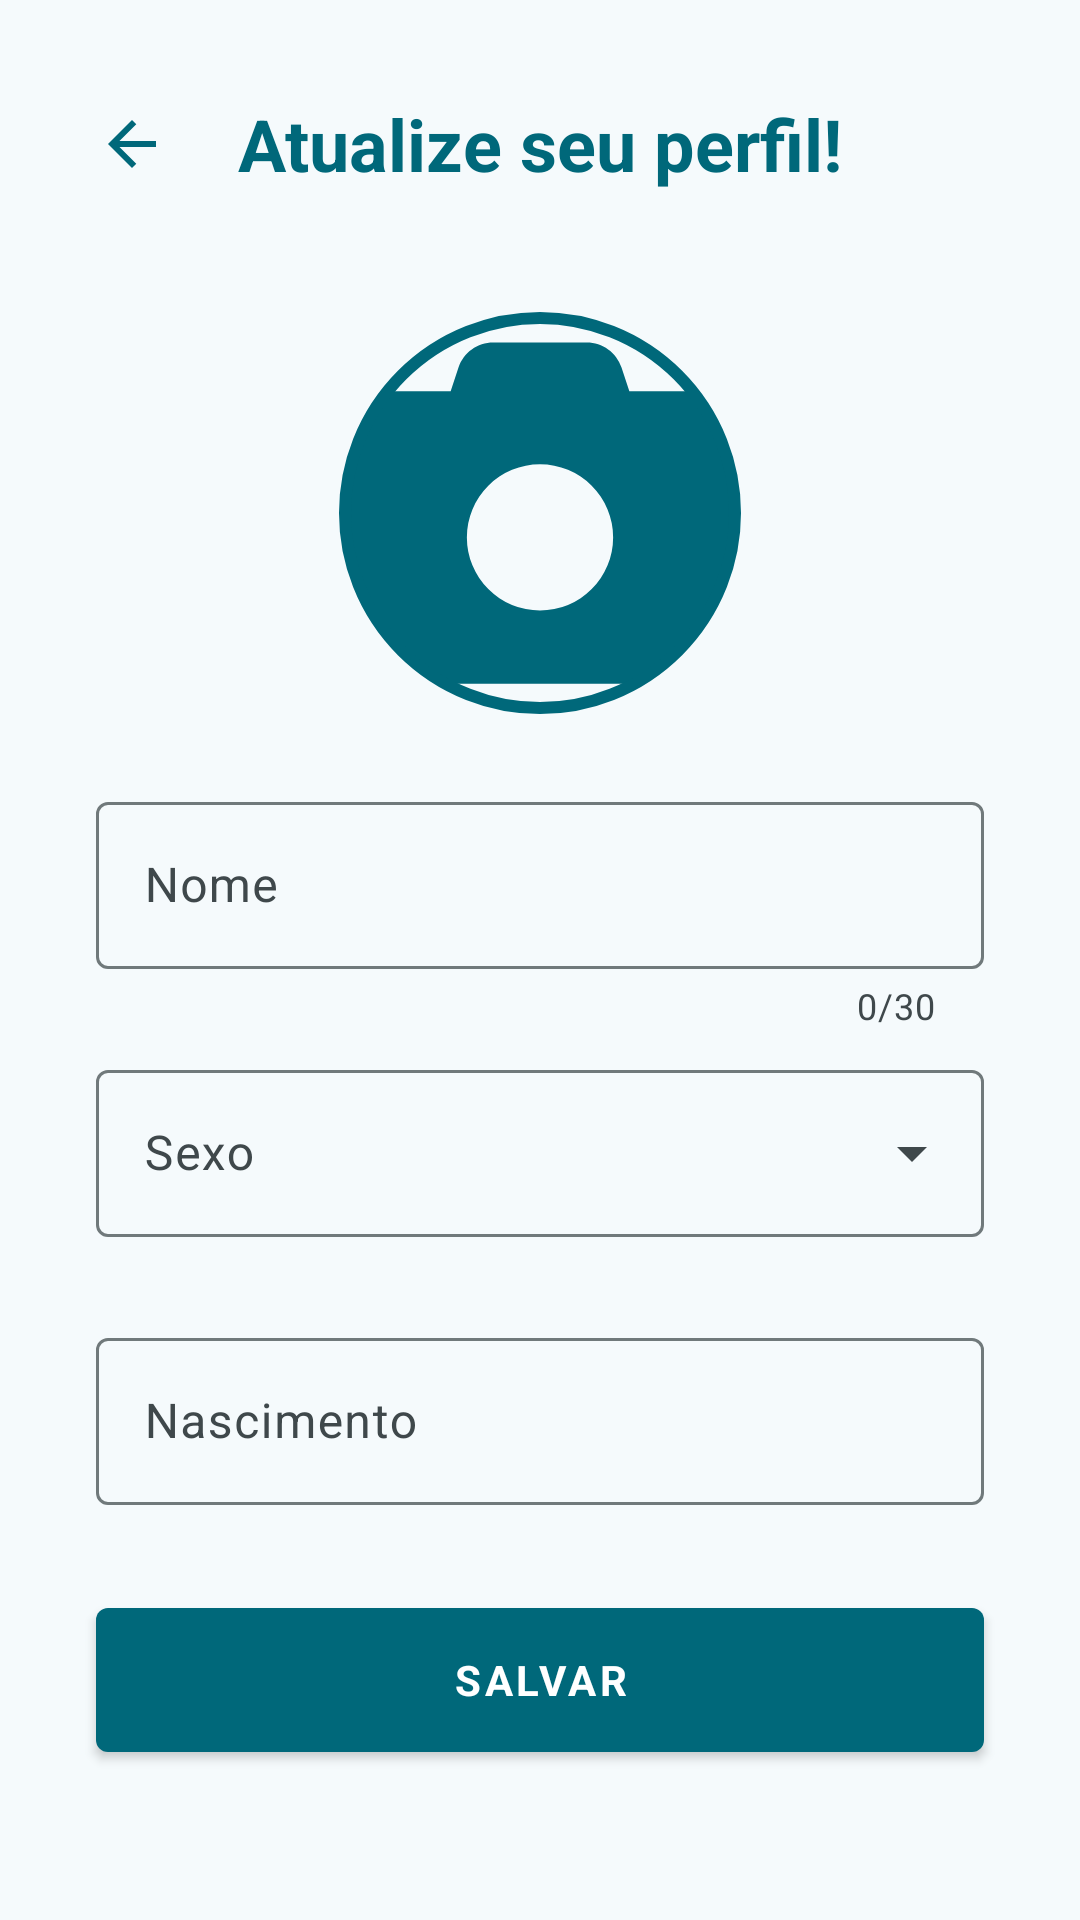

Screen size 1080 × 1920. Icon name, then its center in pixels as (x=x, y=y):
arrow back: (x=132, y=144)
